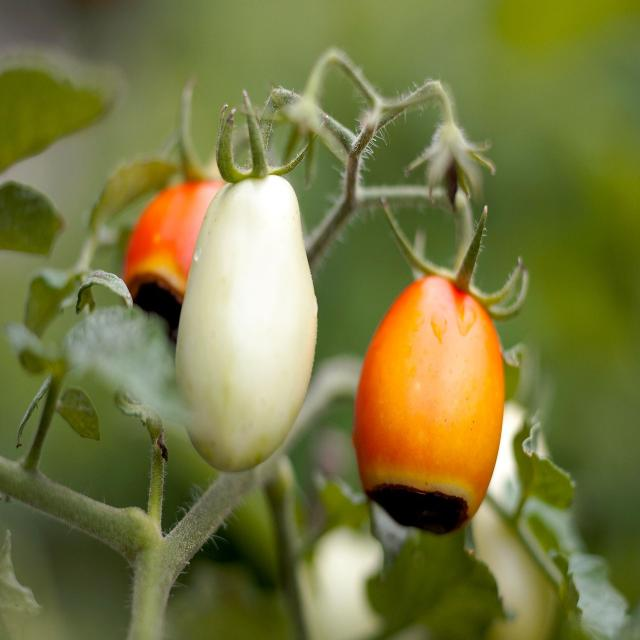damaged: (173, 178, 320, 483), (382, 227, 502, 540), (126, 184, 230, 316)
